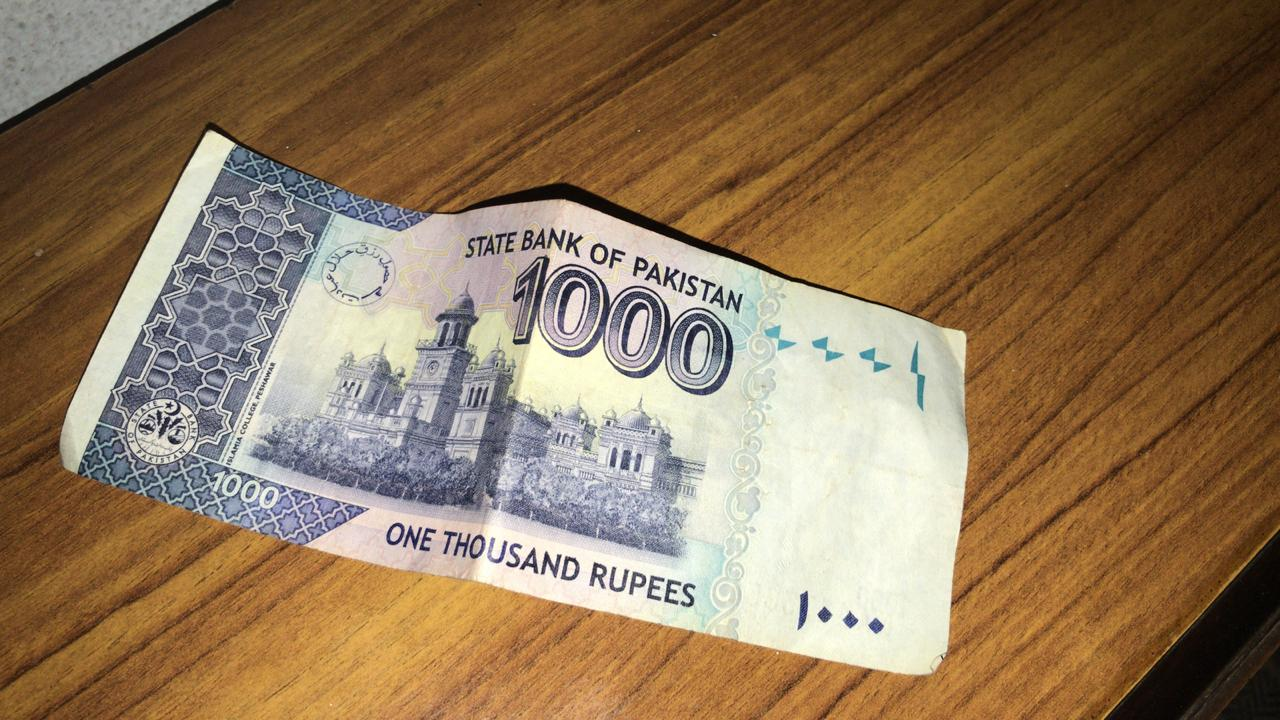1000 rupee: (66, 109, 963, 683)
